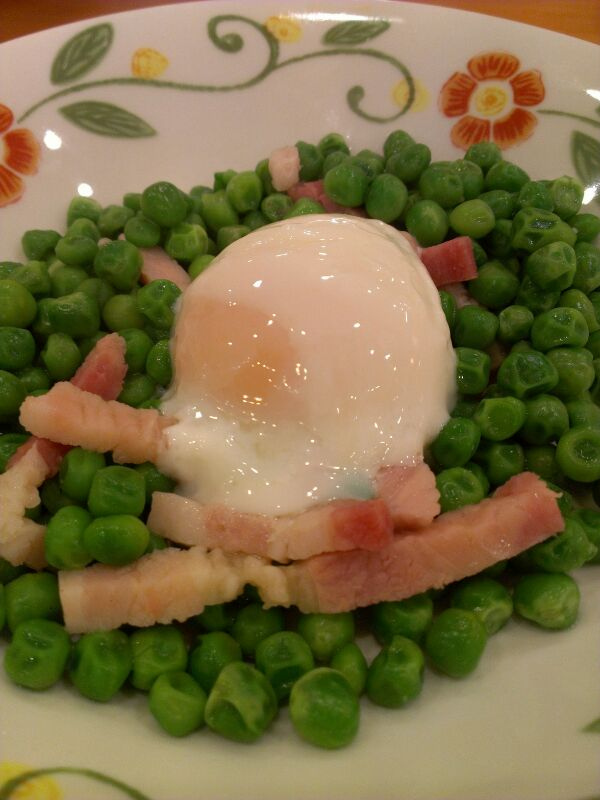boiled peas: (1, 129, 600, 740)
fried egg: (175, 227, 436, 497)
